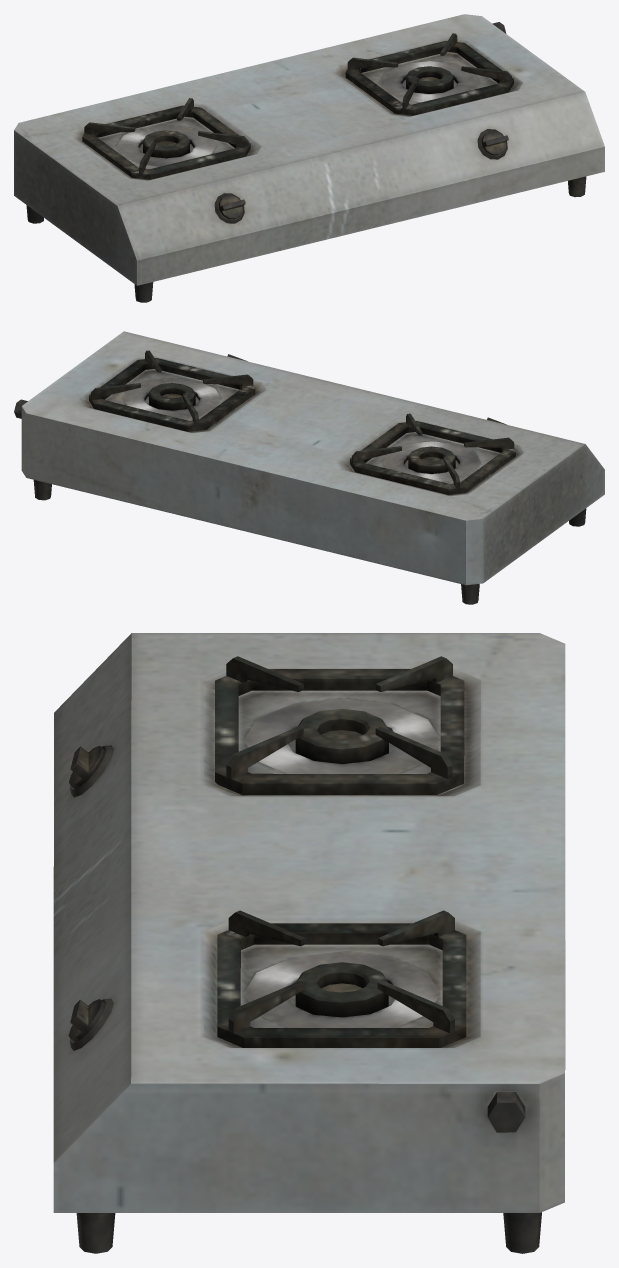
The model's file is Stove.FBX.
The picture shows the model from 3 angles, top to bottom: view 1: azimuth 30°, elevation 25°; view 2: azimuth 150°, elevation 25°; view 3: azimuth 270°, elevation 25°; orthographic projection. The views are drawn at different scales.
Parts seen in each view (by area): view 1: Stove; view 2: Stove; view 3: Stove.
Part boxes in pixels (x1=…): Stove: x1=14, y1=14, x2=604, y2=302; Stove: x1=14, y1=331, x2=604, y2=604; Stove: x1=53, y1=633, x2=565, y2=1253.
Size of the model in its own units: 86.49 by 17.87 by 40.51.
1 material, 1 textured.
